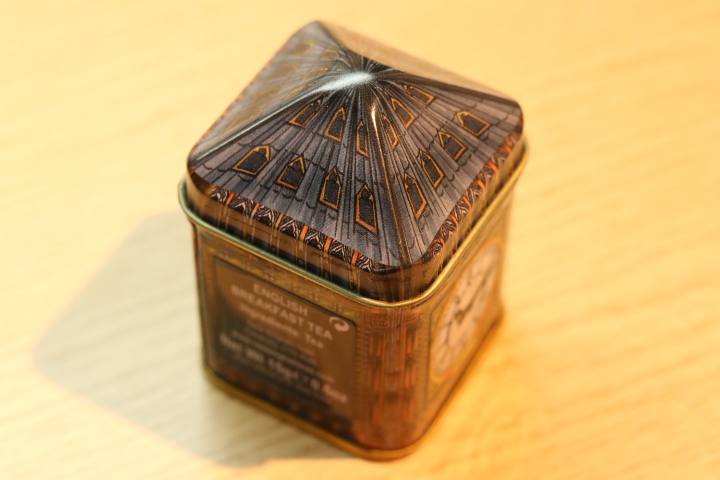Big Ben: (175, 8, 550, 473)
